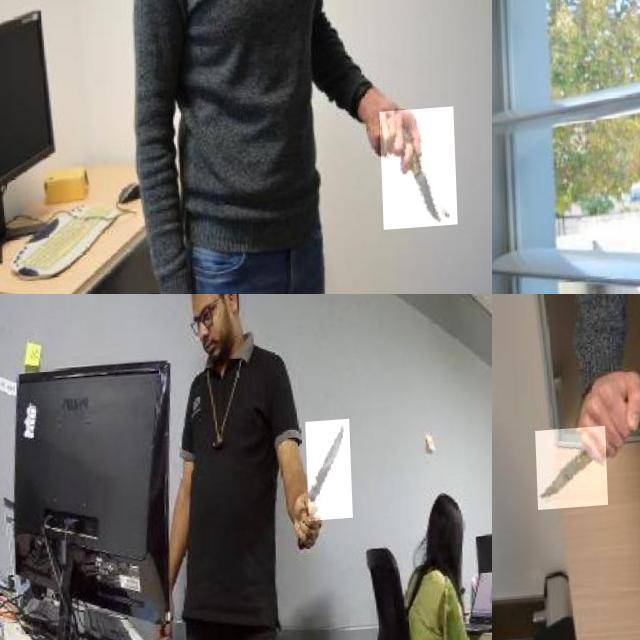-: (377, 115, 455, 237), (533, 430, 605, 513), (303, 424, 350, 526), (492, 154, 513, 218)
